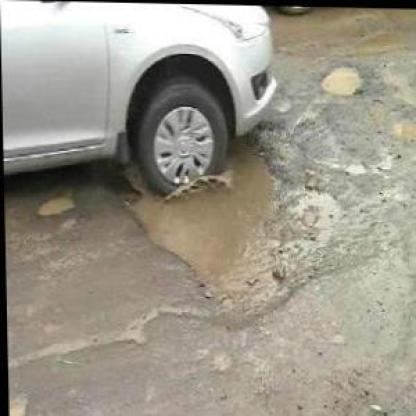pothole: (116, 108, 326, 326), (319, 60, 366, 94), (32, 190, 76, 219)
